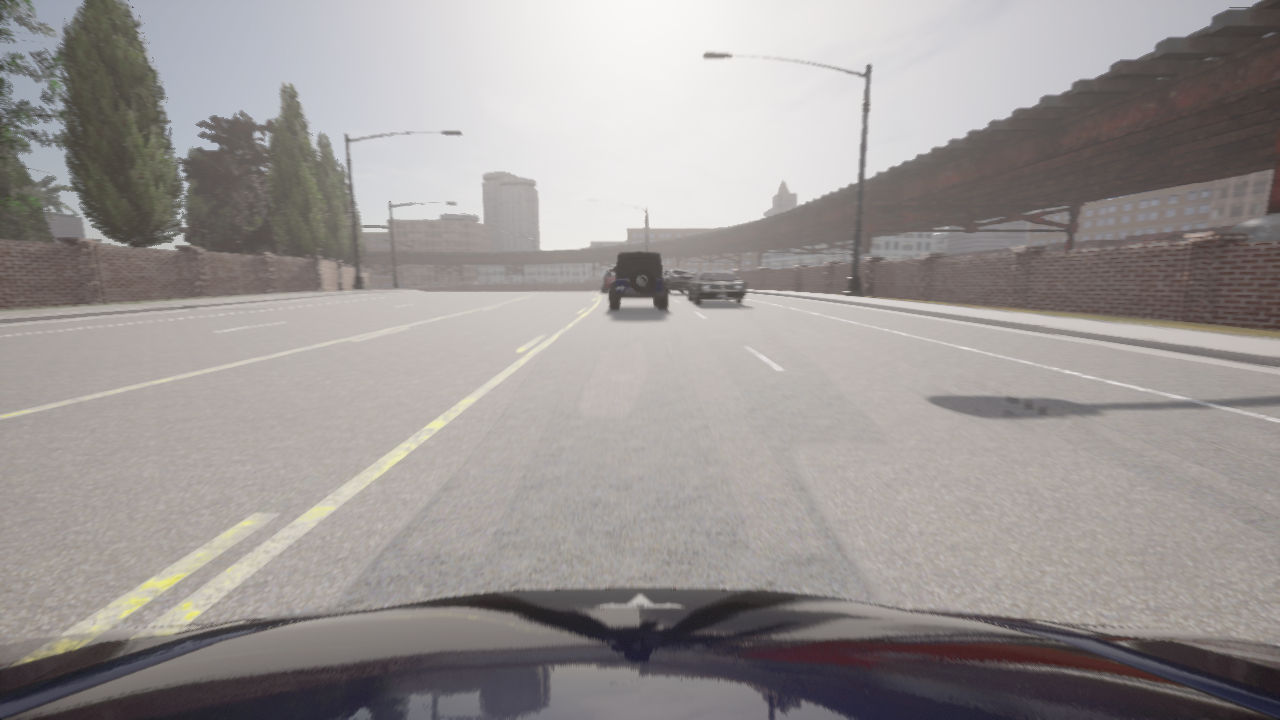cyclist: (0, 588, 1279, 719), (609, 252, 667, 310), (688, 271, 746, 304), (662, 269, 693, 293), (600, 270, 615, 292)
